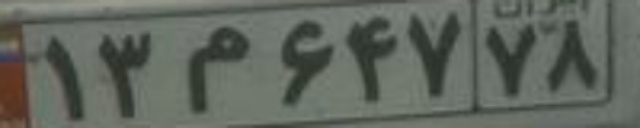1: (41, 34, 88, 121)
3: (97, 33, 156, 117)
4: (343, 16, 400, 102)
6: (271, 19, 337, 105)
7: (406, 10, 468, 97), (483, 20, 535, 95)
8: (545, 19, 599, 91)
mim: (180, 25, 251, 113)
